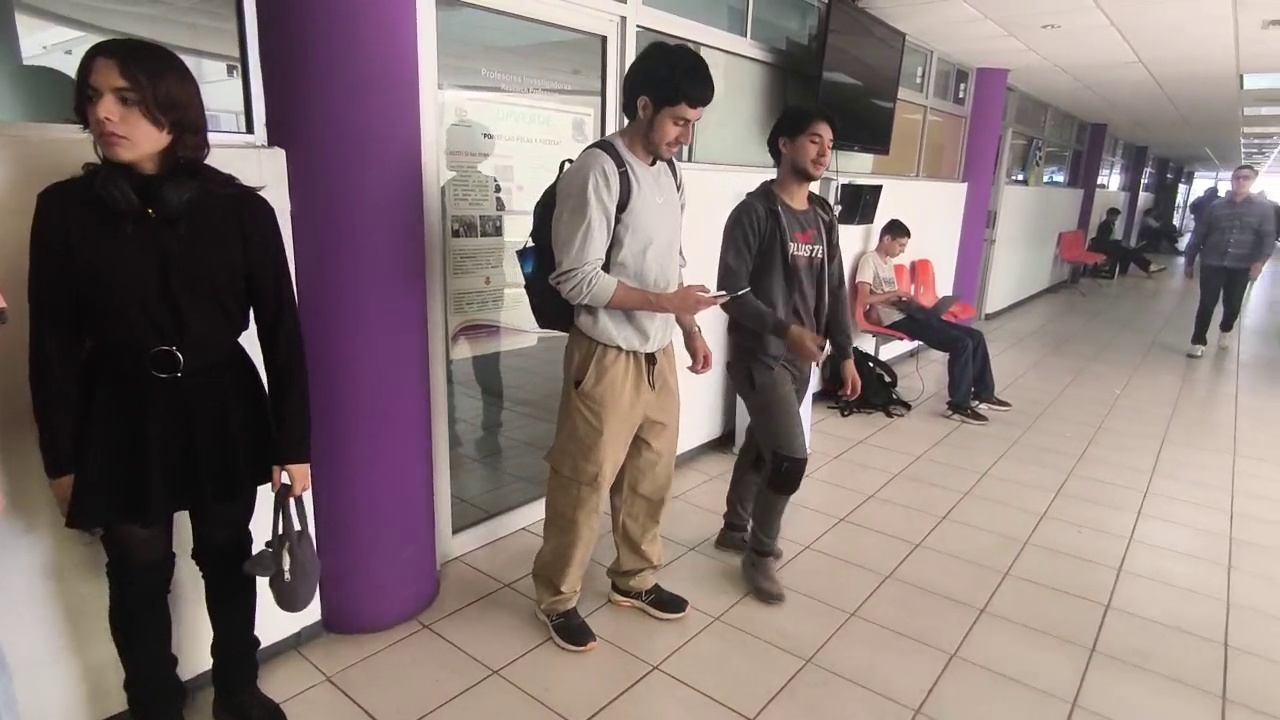mixto2: (699, 283, 754, 302)
